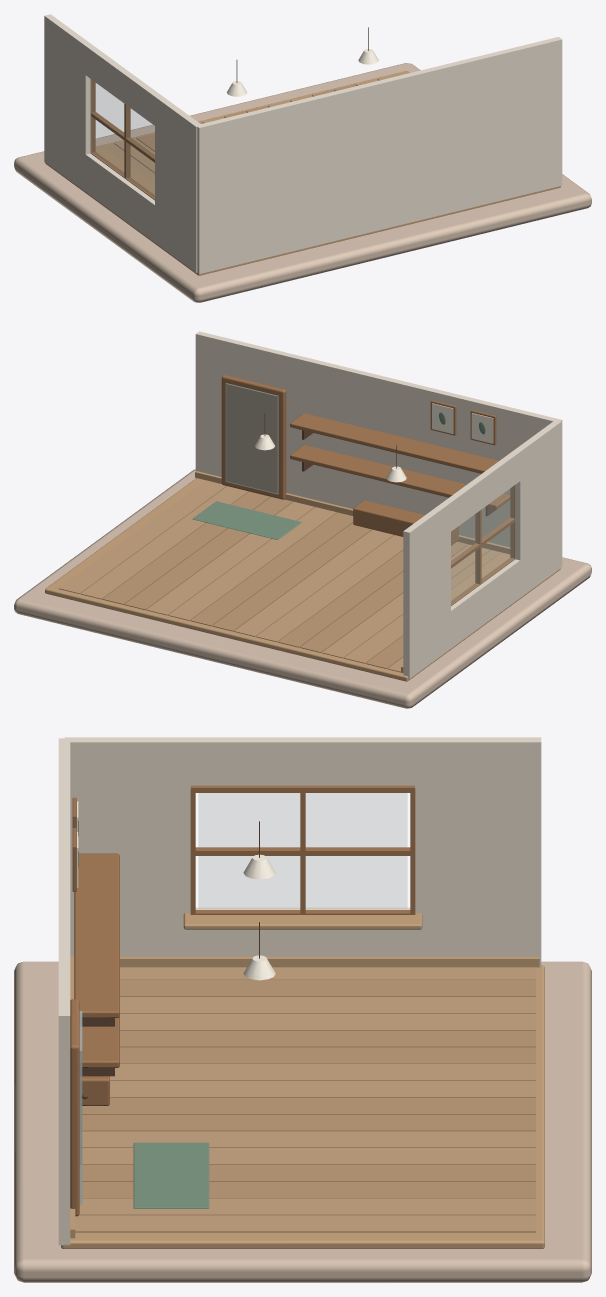
File: room-w1_1b.glb
3 renders of one model, top to bottom at view 1: azimuth 30°, elevation 25°; view 2: azimuth 150°, elevation 25°; view 3: azimuth 270°, elevation 25°, orthographic. The views are drawn at different scales.
Visible parts, largest first — view 1: room-w1_1b.material2, room-w1_1b.material0, room-w1_1b.material10, room-w1_1b.material1, room-w1_1b.material5, room-w1_1b.material8, room-w1_1b.material13, room-w1_1b.material9; view 2: room-w1_1b.material2, room-w1_1b.material8, room-w1_1b.material0, room-w1_1b.material5, room-w1_1b.material9, room-w1_1b.material1, room-w1_1b.material6, room-w1_1b.material10, room-w1_1b.material4, room-w1_1b.material11, room-w1_1b.material3; view 3: room-w1_1b.material2, room-w1_1b.material8, room-w1_1b.material9, room-w1_1b.material0, room-w1_1b.material10, room-w1_1b.material5, room-w1_1b.material1, room-w1_1b.material3, room-w1_1b.material4, room-w1_1b.material13, room-w1_1b.material6.
Part boxes in pixels (box(x1,y1,x2,y2)): room-w1_1b.material2: box(44, 14, 562, 273); room-w1_1b.material0: box(14, 63, 591, 302); room-w1_1b.material10: box(91, 80, 154, 199); room-w1_1b.material1: box(45, 71, 560, 275); room-w1_1b.material5: box(90, 79, 154, 200); room-w1_1b.material8: box(95, 73, 400, 183); room-w1_1b.material13: box(227, 49, 378, 96); room-w1_1b.material9: box(136, 84, 356, 151); room-w1_1b.material2: box(195, 331, 562, 678); room-w1_1b.material8: box(58, 480, 509, 672); room-w1_1b.material0: box(14, 469, 591, 708); room-w1_1b.material5: box(221, 375, 515, 605); room-w1_1b.material9: box(102, 491, 468, 668); room-w1_1b.material1: box(45, 478, 560, 681); room-w1_1b.material6: box(225, 383, 278, 494); room-w1_1b.material10: box(451, 485, 514, 605); room-w1_1b.material4: box(192, 501, 301, 539); room-w1_1b.material11: box(432, 403, 493, 443); room-w1_1b.material3: box(195, 471, 510, 672); room-w1_1b.material2: box(58, 737, 541, 1245); room-w1_1b.material8: box(75, 967, 535, 1232); room-w1_1b.material9: box(82, 980, 535, 1198); room-w1_1b.material0: box(14, 961, 591, 1282); room-w1_1b.material10: box(198, 793, 407, 908); room-w1_1b.material5: box(70, 785, 415, 1216); room-w1_1b.material1: box(61, 913, 544, 1248); room-w1_1b.material3: box(70, 956, 539, 1238); room-w1_1b.material4: box(133, 1142, 209, 1208); room-w1_1b.material13: box(243, 854, 275, 980); room-w1_1b.material6: box(79, 1011, 82, 1204).
Size of the model in its own units: 10 by 3.92 by 8.
